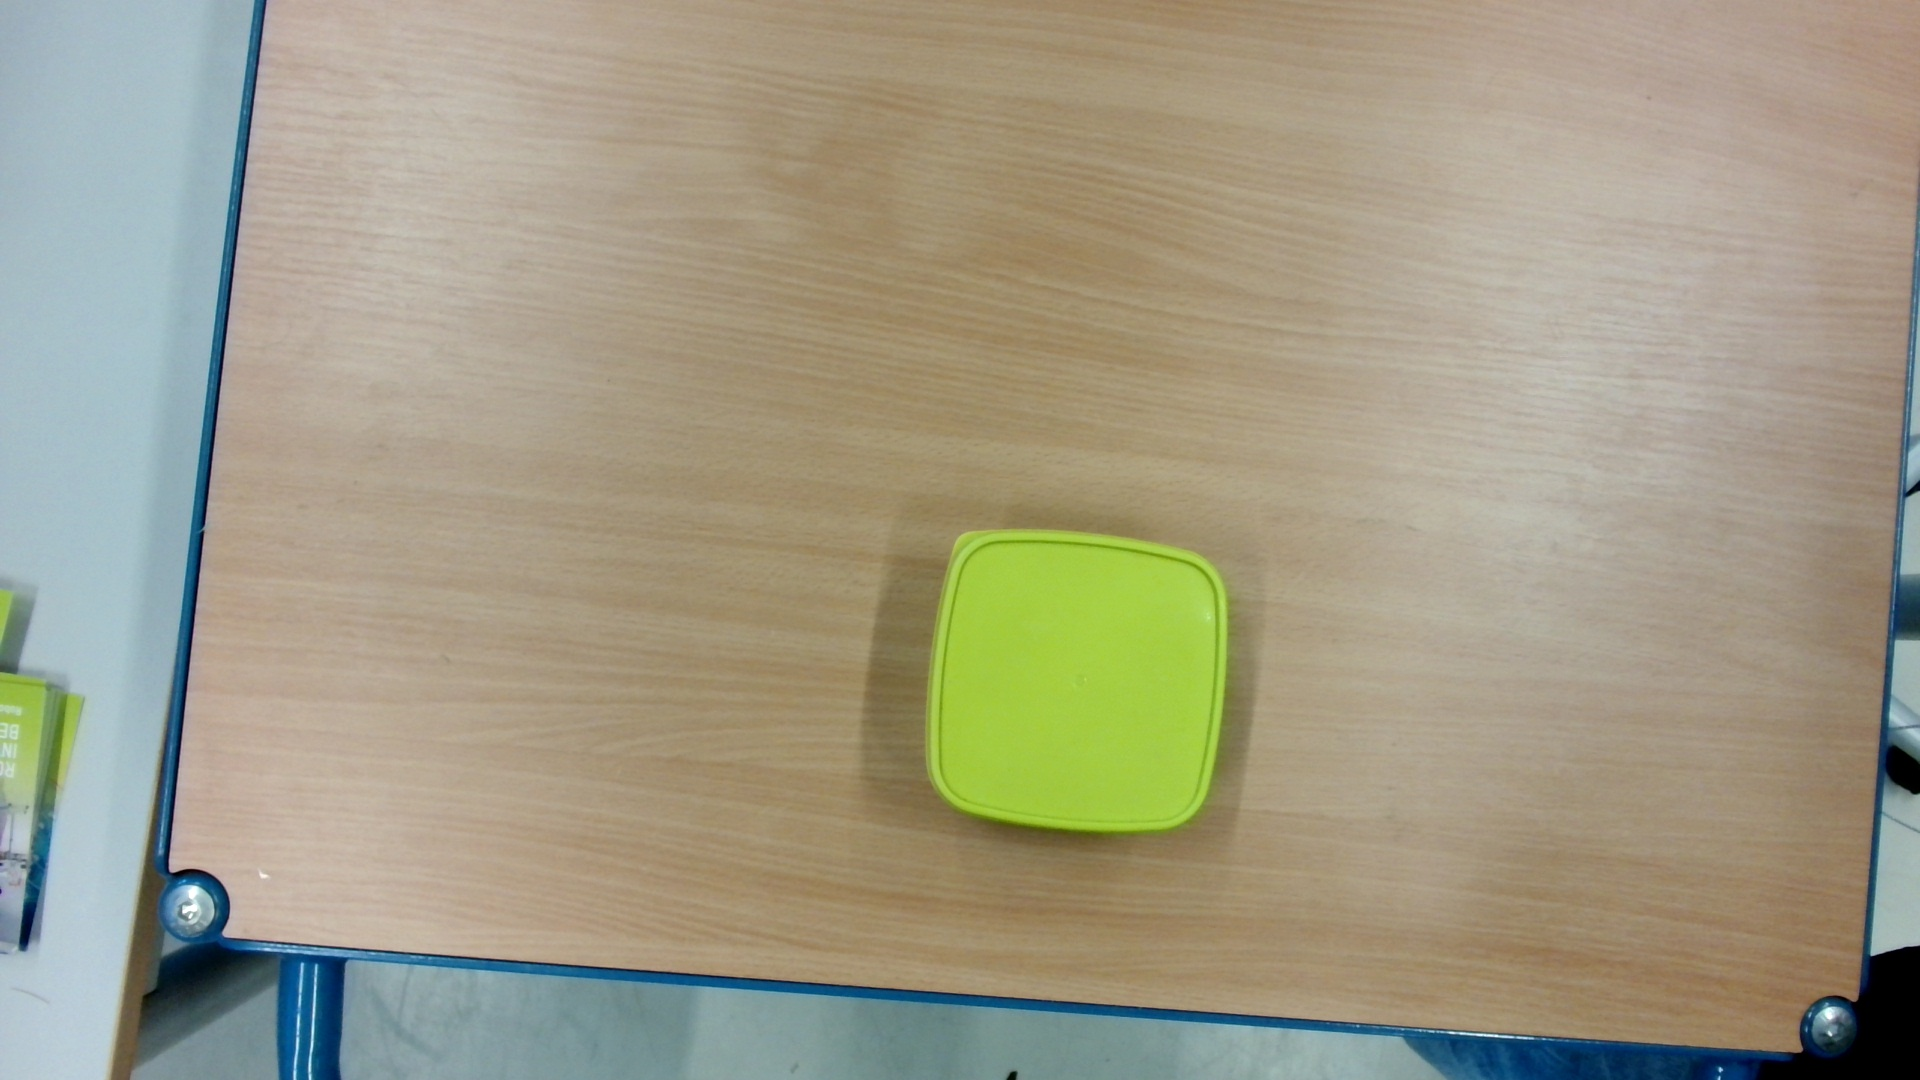Box: (916, 520, 1240, 848)
